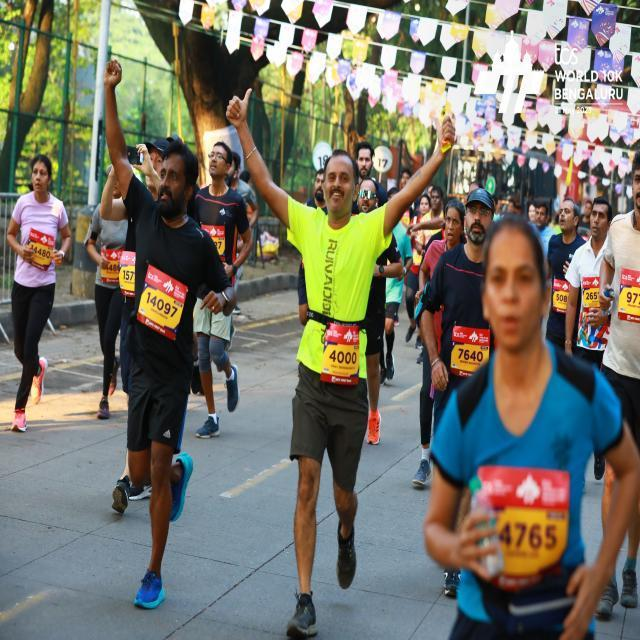dorsal: (479, 463, 565, 587), (142, 260, 184, 342), (320, 316, 360, 384), (450, 324, 490, 382)
